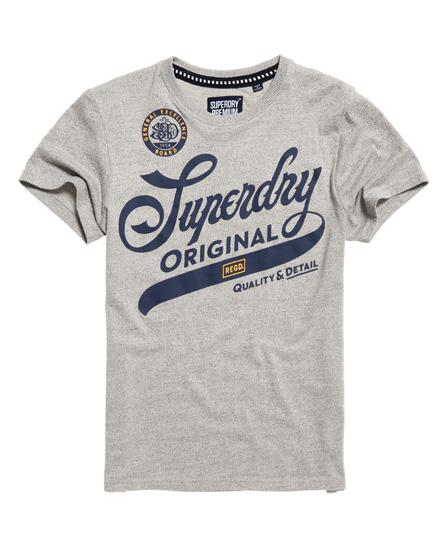teeshirt: (19, 54, 445, 507)
